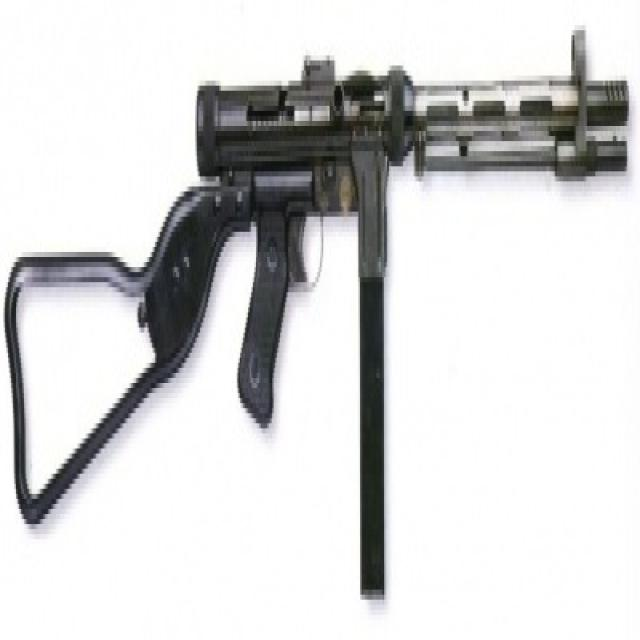rifle: (4, 18, 635, 609)
